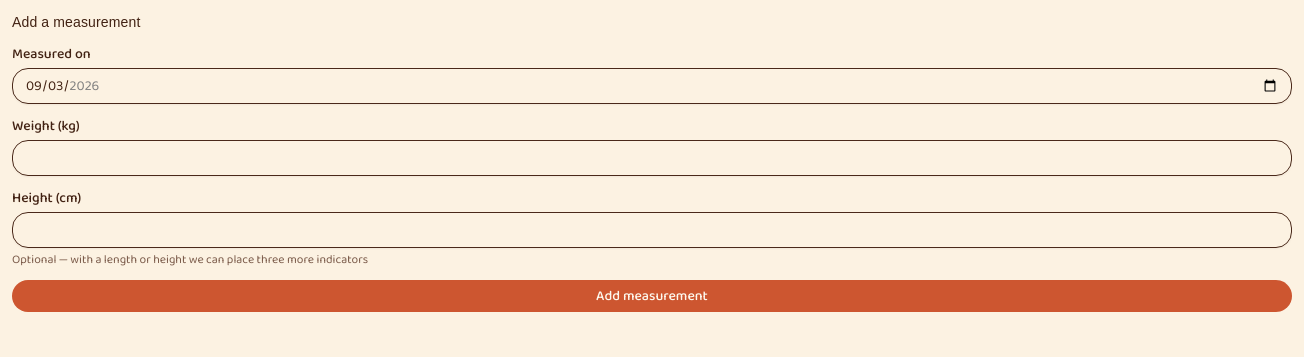
Scenario: LogMeasurementForm › refuses a non-positive weight before posting
In the number field labelled "Weight (kg)": (652, 158) [12,140,1292,176], type "0"
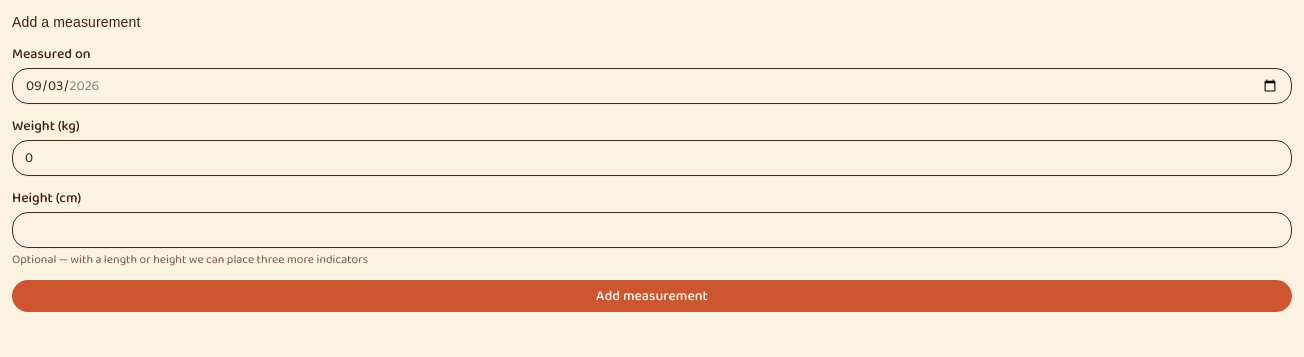
Click the button "Add measurement": (652, 296) [12,280,1292,312]
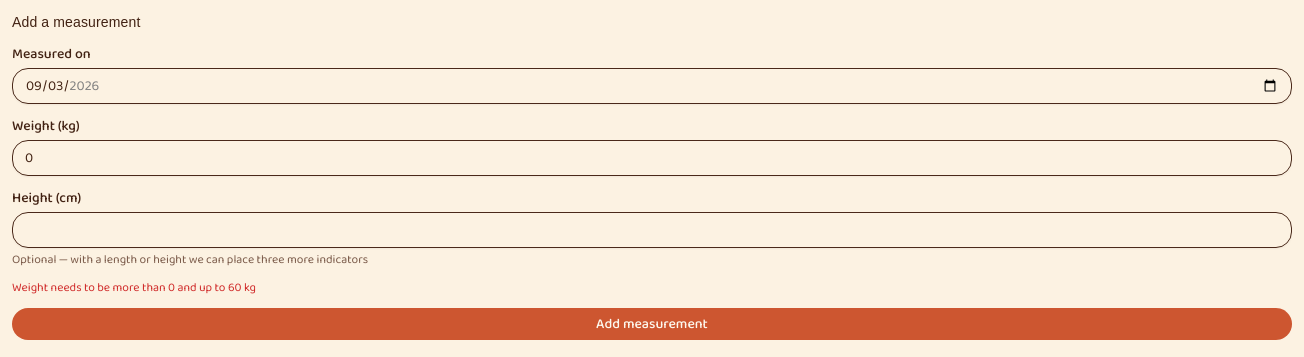
expect the message reads "Weight needs to be more than 0 and up to 60 kg": met, box [12,278,256,297]
